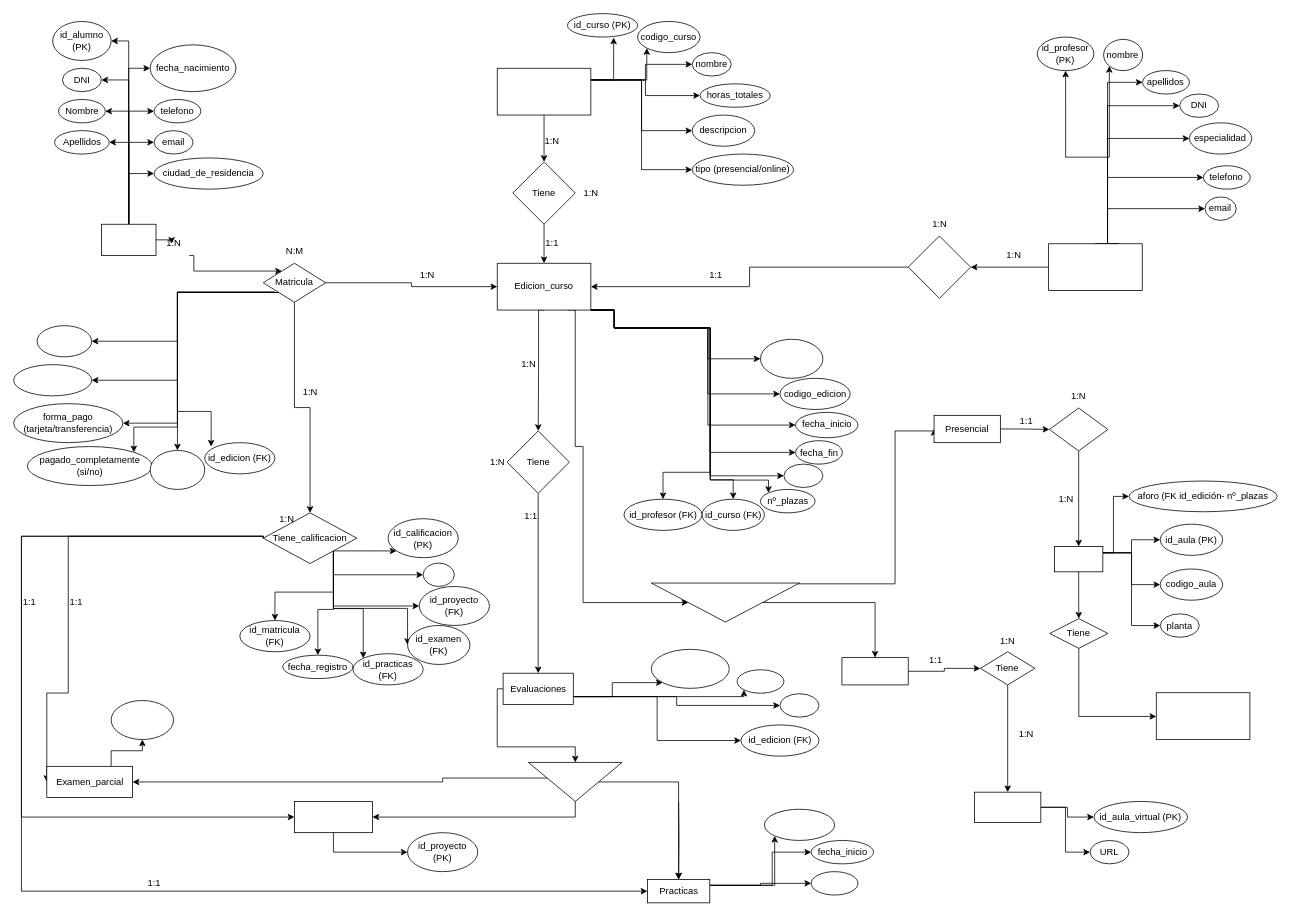
This 1291x916 diagram has some shape labels left out. The centre of each missing label's shape, as x and y in pixels:
Alumno: (x=128, y=239)
Aula: (x=1078, y=559)
Aula_virtual: (x=1007, y=806)
Curso: (x=543, y=91)
Fecha: (x=760, y=681)
fecha fin: (x=834, y=883)
fecha_matricula: (x=52, y=380)
horario: (x=803, y=475)
id_alumno (FK): (x=177, y=469)
id_edicion (PK): (x=791, y=358)
id_evaluacion (PK): (x=690, y=668)
id_examen (PK): (x=142, y=720)
id_matricula: (x=64, y=341)
id_practicas (PK): (x=799, y=824)
Imparte: (x=939, y=266)
Medios_especiales: (x=1202, y=716)
Modalidad: (x=725, y=602)
nota: (x=438, y=574)
nota final: (x=799, y=705)
Ocupa: (x=1078, y=429)
Online: (x=874, y=671)
Profesor: (x=1095, y=267)
Proyecto_final: (x=333, y=817)
Tipos: (x=575, y=781)
